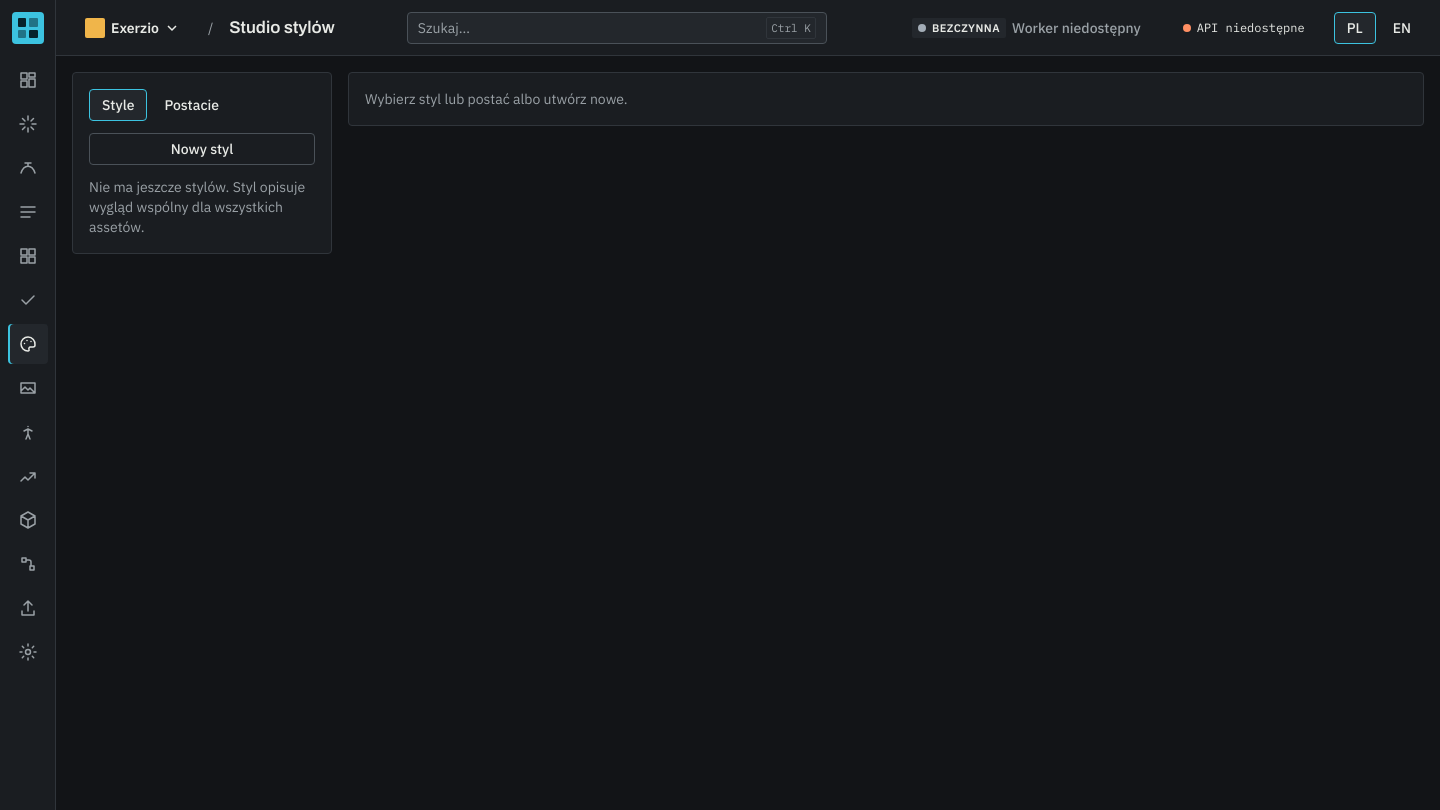
Test: Style Studio › translates a name clash
Click the button "Nowy styl" at x=202, y=149, box [89, 133, 315, 165]
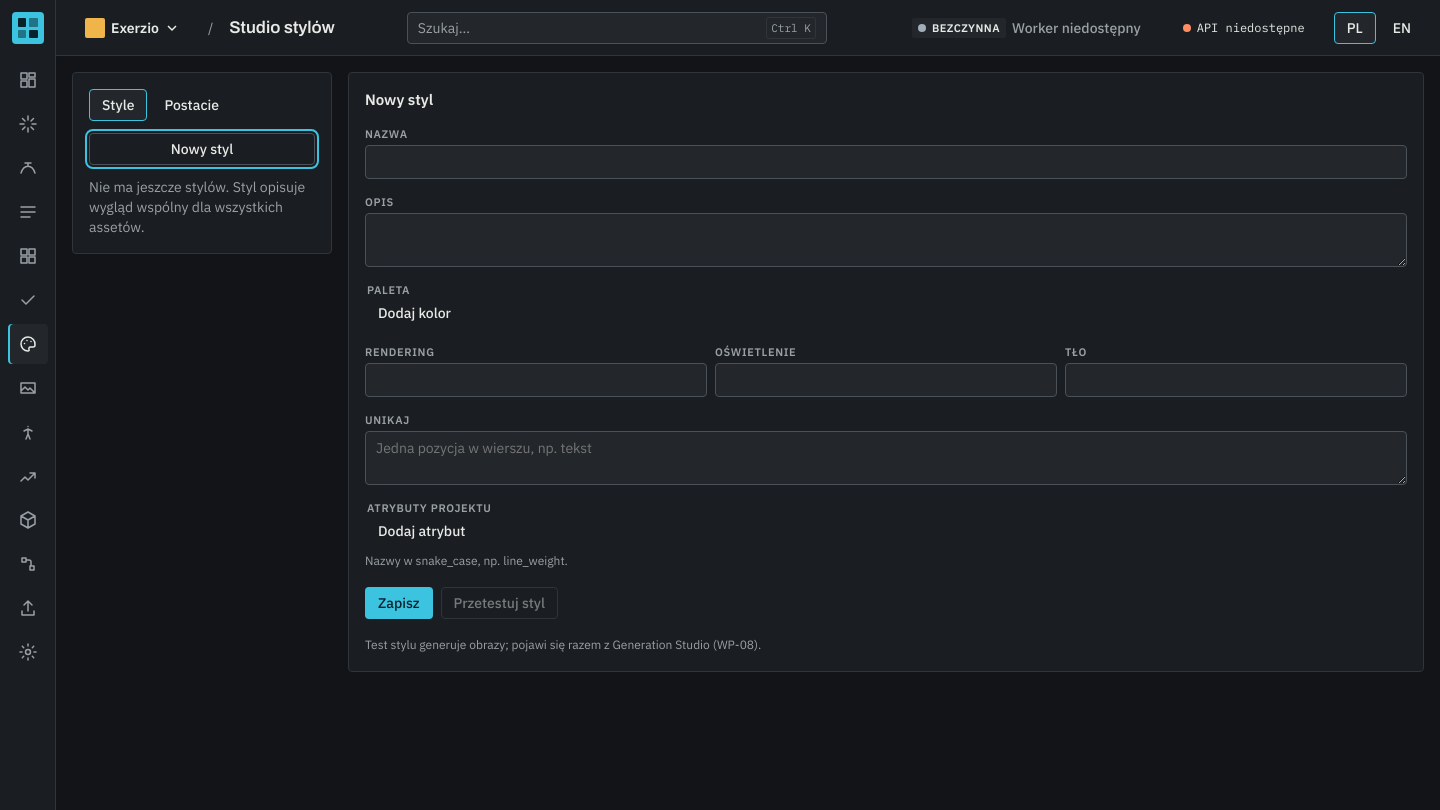
Type "Flat" into the field labelled "Nazwa" at x=886, y=162, box [365, 145, 1407, 179]
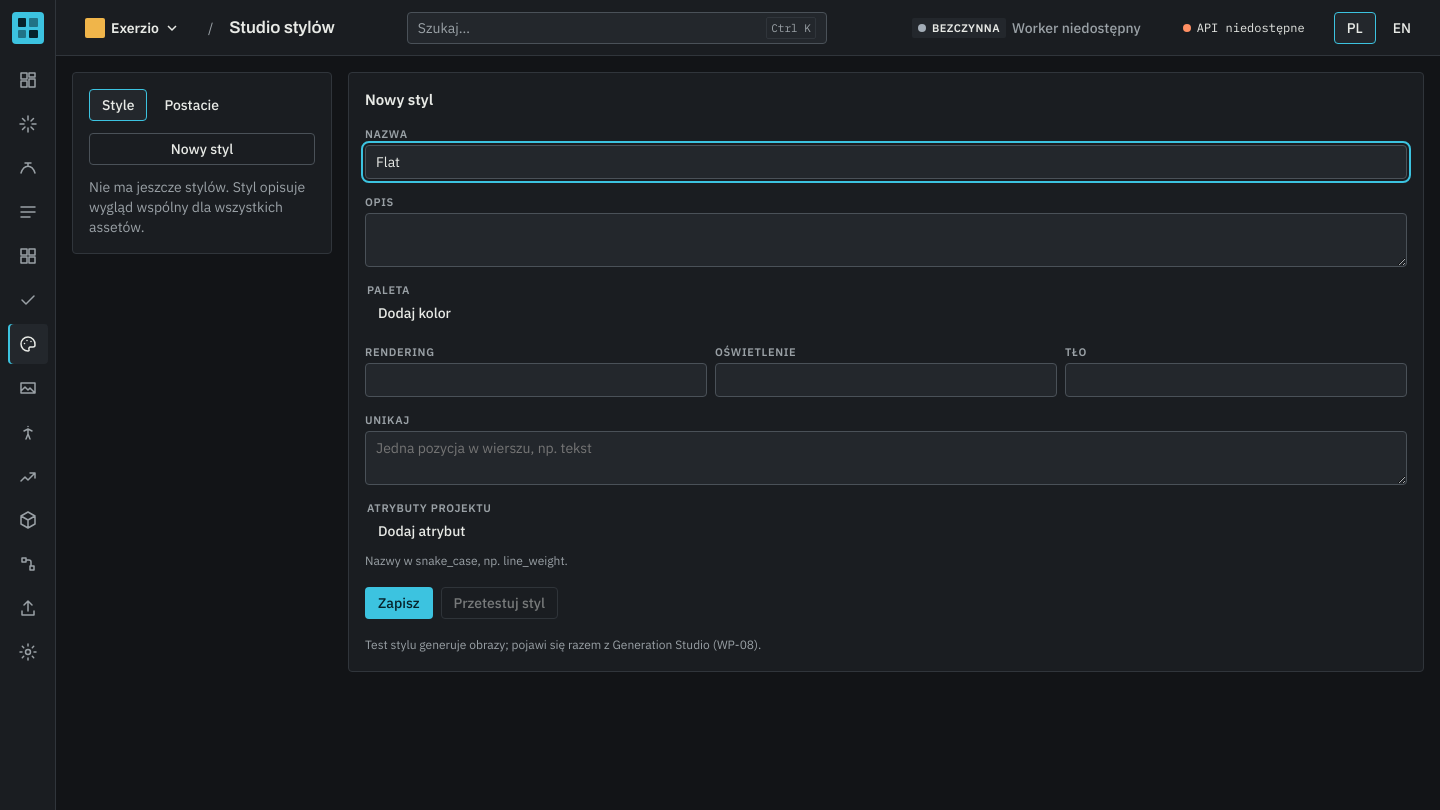
Click the button "Zapisz" at x=399, y=603, box [365, 587, 433, 619]
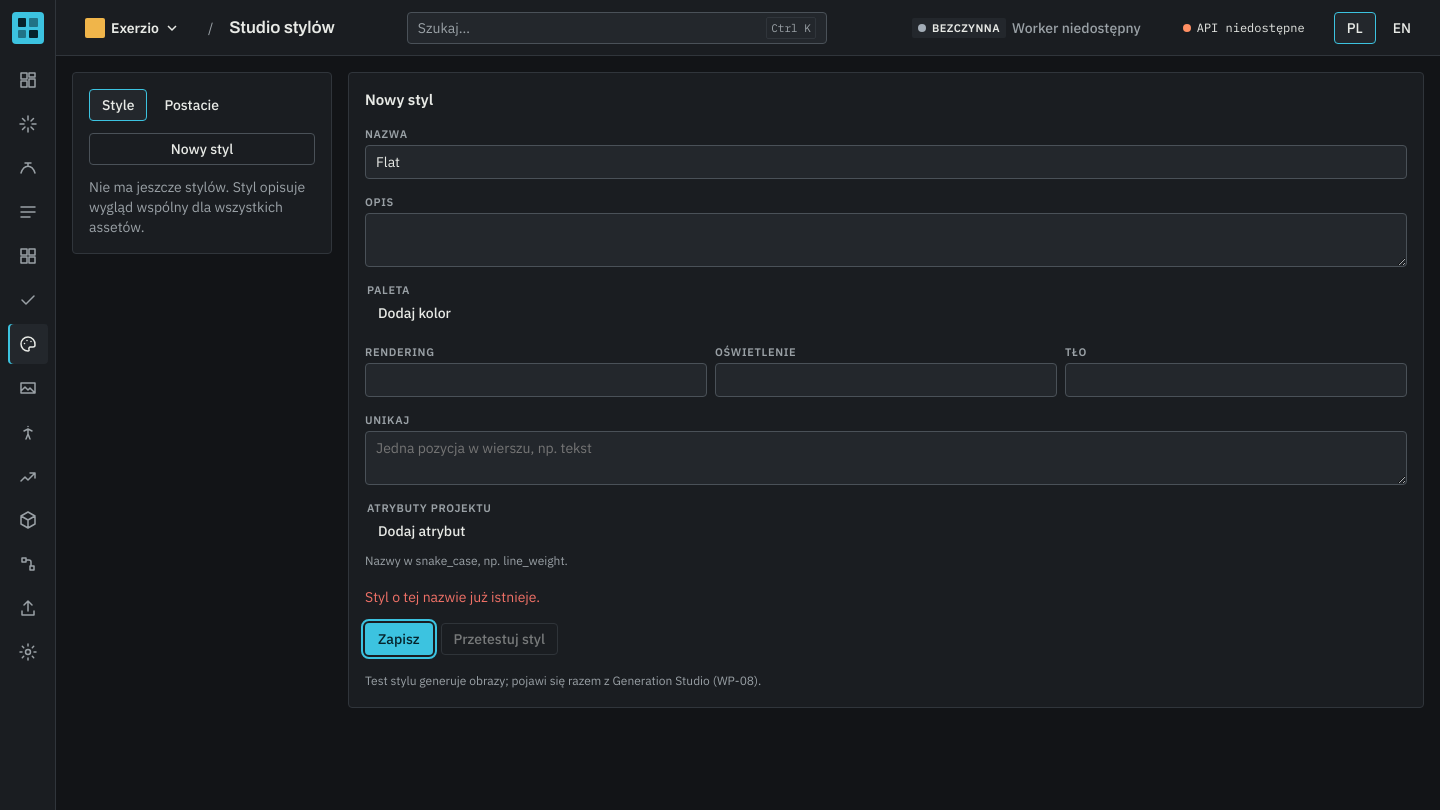
Check: the message reads "Styl o tej nazwie już istnieje.", box [365, 588, 540, 606]
